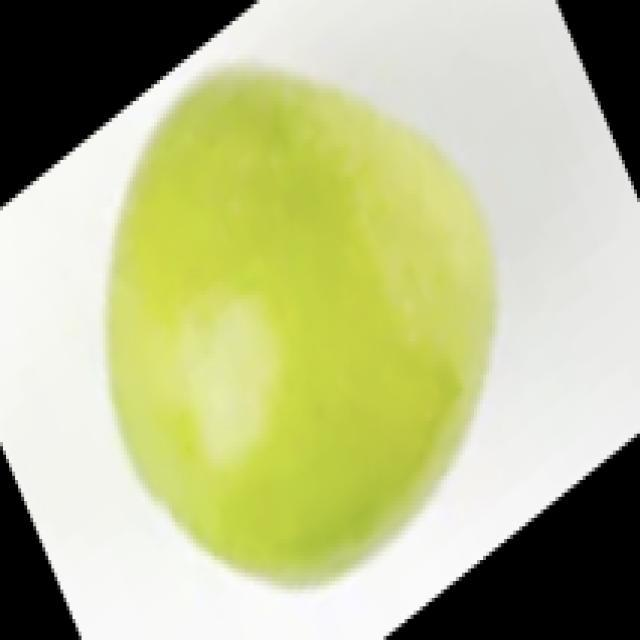Apple: (103, 64, 497, 589)
